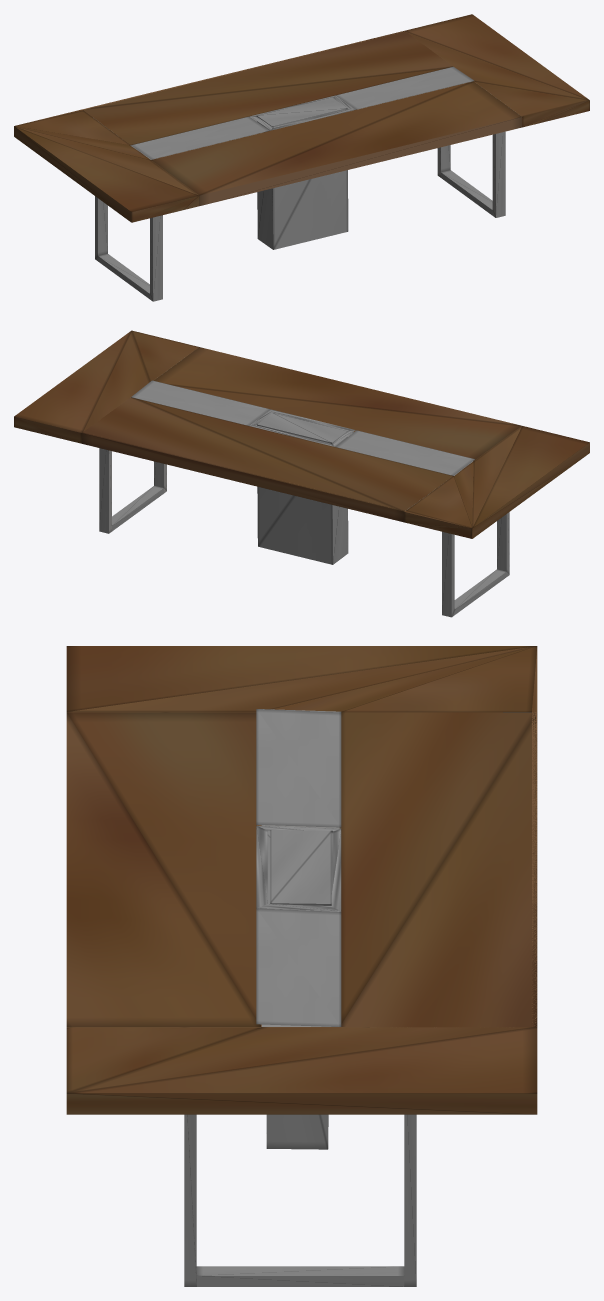
The picture shows the model from 3 angles, top to bottom: view 1: azimuth 30°, elevation 25°; view 2: azimuth 150°, elevation 25°; view 3: azimuth 270°, elevation 25°; orthographic projection. The views are drawn at different scales.
Parts seen in each view (by area): view 1: world; view 2: world; view 3: world.
Boxes of the visible parts, x1,y1,x2,y2 form: world: (14, 14, 589, 301); world: (14, 330, 589, 617); world: (66, 646, 537, 1286).
Bounding box in the file's own units: 1.78 × 0.4634 × 0.7893.
Materials: 1 (1 with a texture image).
